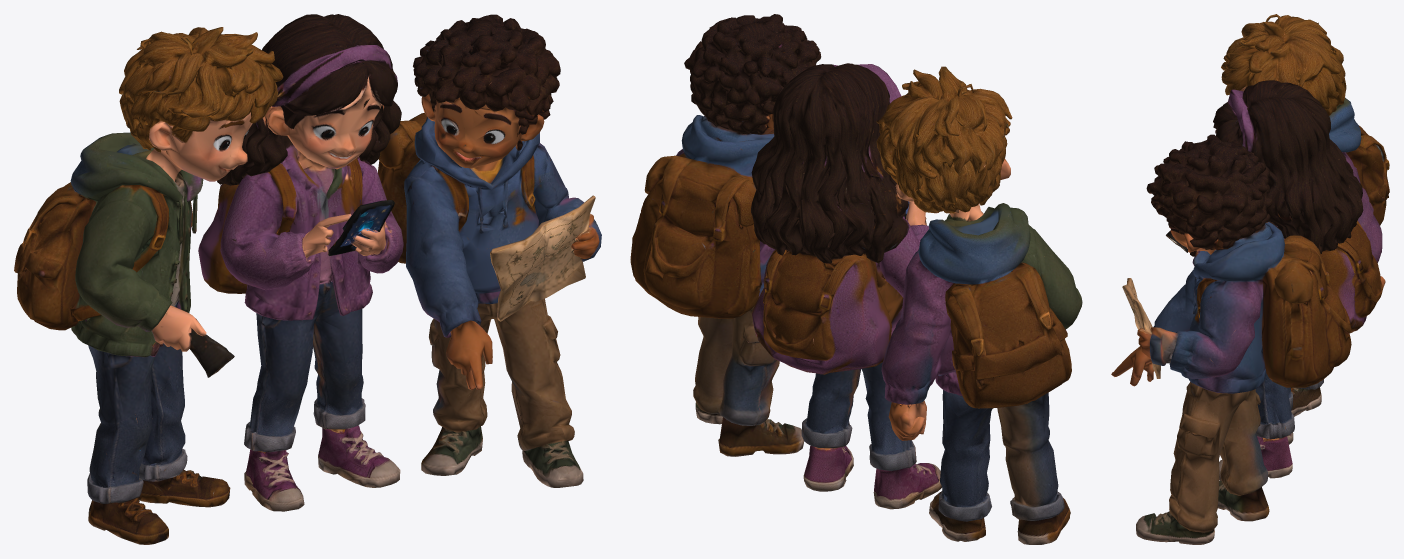
Rendered from starlit-secret.glb.
The picture shows the model from 3 angles, left to right: view 1: azimuth 30°, elevation 25°; view 2: azimuth 150°, elevation 25°; view 3: azimuth 270°, elevation 25°; orthographic projection. The views are drawn at different scales.
Size of the model in its own units: 1.9 by 1.73 by 1.1.
Materials: 1 (1 with a texture image).
